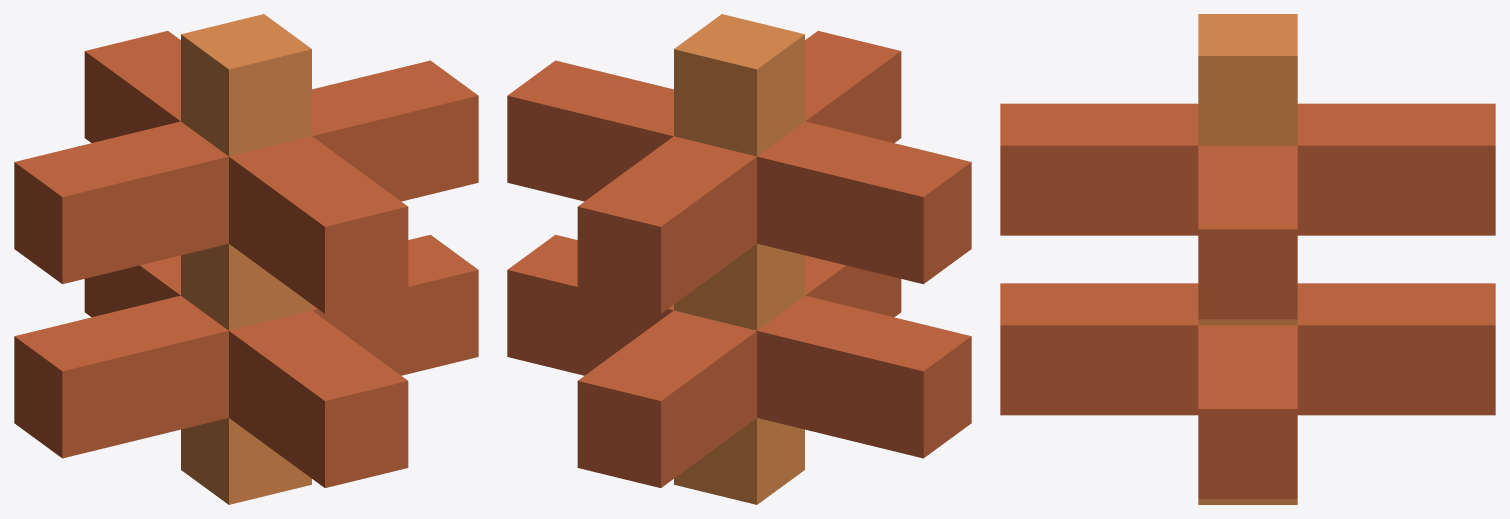
File: fence_x.obj
3 renders of one model, left to right at view 1: azimuth 30°, elevation 25°; view 2: azimuth 150°, elevation 25°; view 3: azimuth 270°, elevation 25°, orthographic. The views are drawn at different scales.
Size of the model in its own units: 0.5 by 0.5 by 0.5.
Materials: 1 (1 with a texture image).
